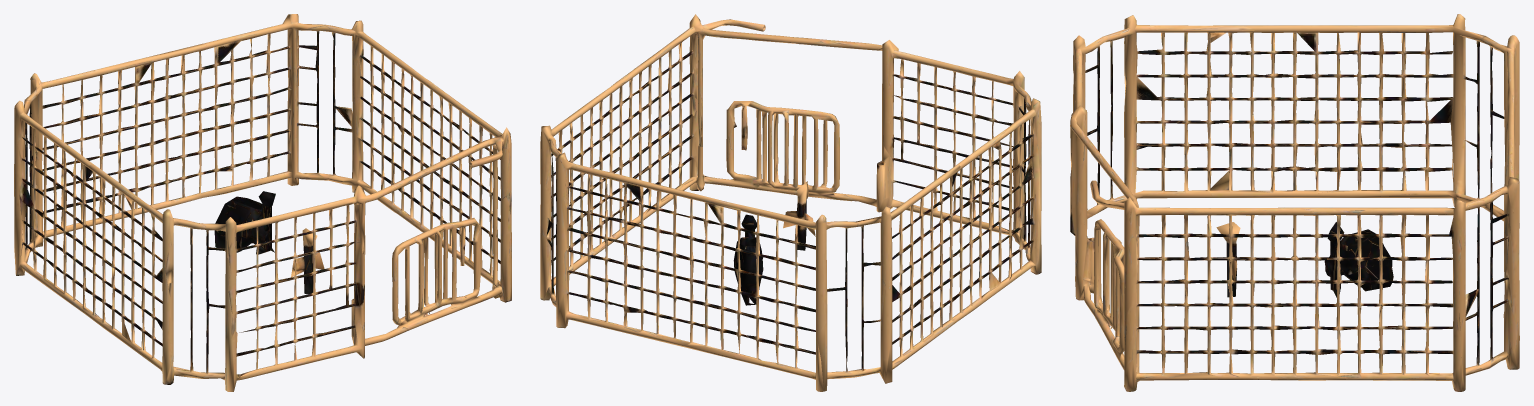
Rendered from base-cage.glb.
3 views of the same model, side by side, from view 1: azimuth 30°, elevation 25°; view 2: azimuth 150°, elevation 25°; view 3: azimuth 270°, elevation 25° (orthographic). The views are drawn at different scales.
Size of the model in its own units: 1.89 by 0.9033 by 1.91.
Materials: 1 (1 with a texture image).
